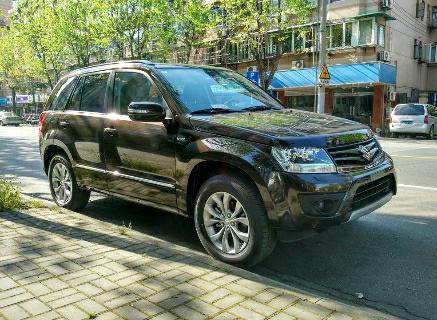铃木-超级维特拉: (38, 60, 401, 267)
